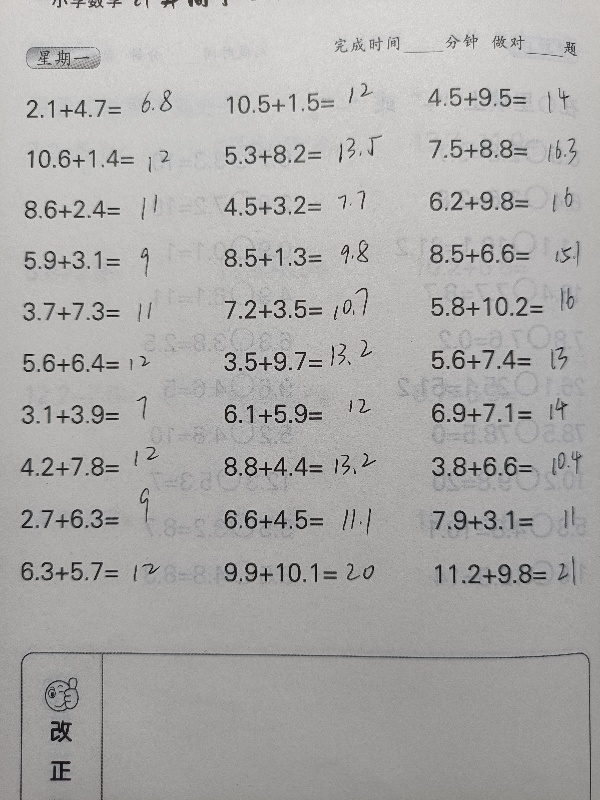equation: (217, 286, 397, 331), (426, 548, 600, 593), (215, 339, 395, 378), (215, 447, 395, 483), (423, 395, 600, 431), (216, 555, 396, 590), (13, 553, 193, 588), (425, 502, 600, 538), (216, 502, 396, 537), (13, 501, 193, 536), (12, 449, 192, 484), (14, 397, 194, 432), (216, 396, 396, 431), (15, 294, 195, 329), (15, 242, 195, 277), (215, 188, 395, 223), (216, 137, 396, 172), (217, 85, 397, 120), (421, 236, 600, 271), (421, 184, 600, 219), (421, 80, 600, 115), (423, 449, 600, 484), (423, 342, 600, 377), (423, 289, 600, 324), (15, 346, 195, 380), (215, 240, 395, 274), (16, 193, 196, 227), (19, 142, 199, 176), (420, 132, 600, 166), (18, 92, 198, 126)
